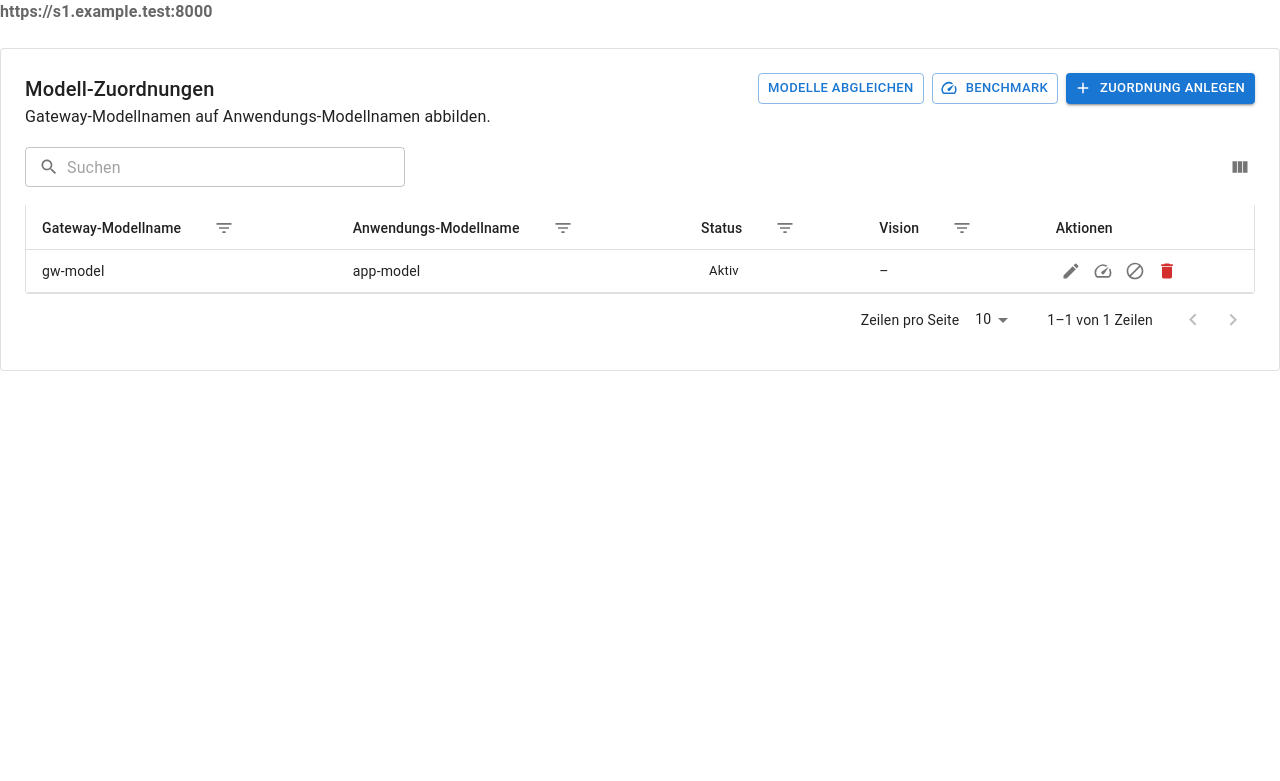
Test case: probes the context size and fills the field (without auto-saving)
This screenshot has width=1280, height=781.
Expected: the text "gw-model" is shown, [26,250,337,292]
Click the button named "Bearbeiten".
click(1071, 271)  # box [1056,256,1086,286]
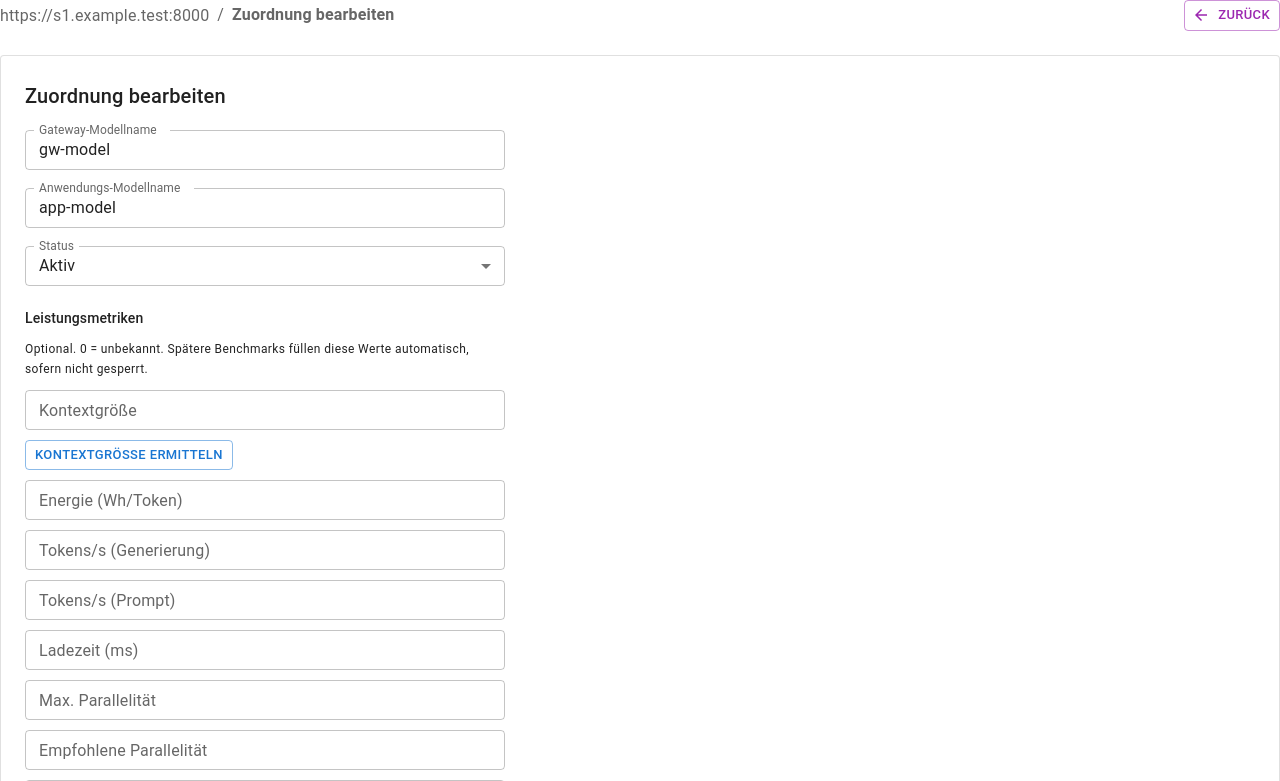
Now the button "Kontextgröße ermitteln" is enabled
Click the button "Kontextgröße ermitteln".
click(129, 455)  # box [25,440,233,470]
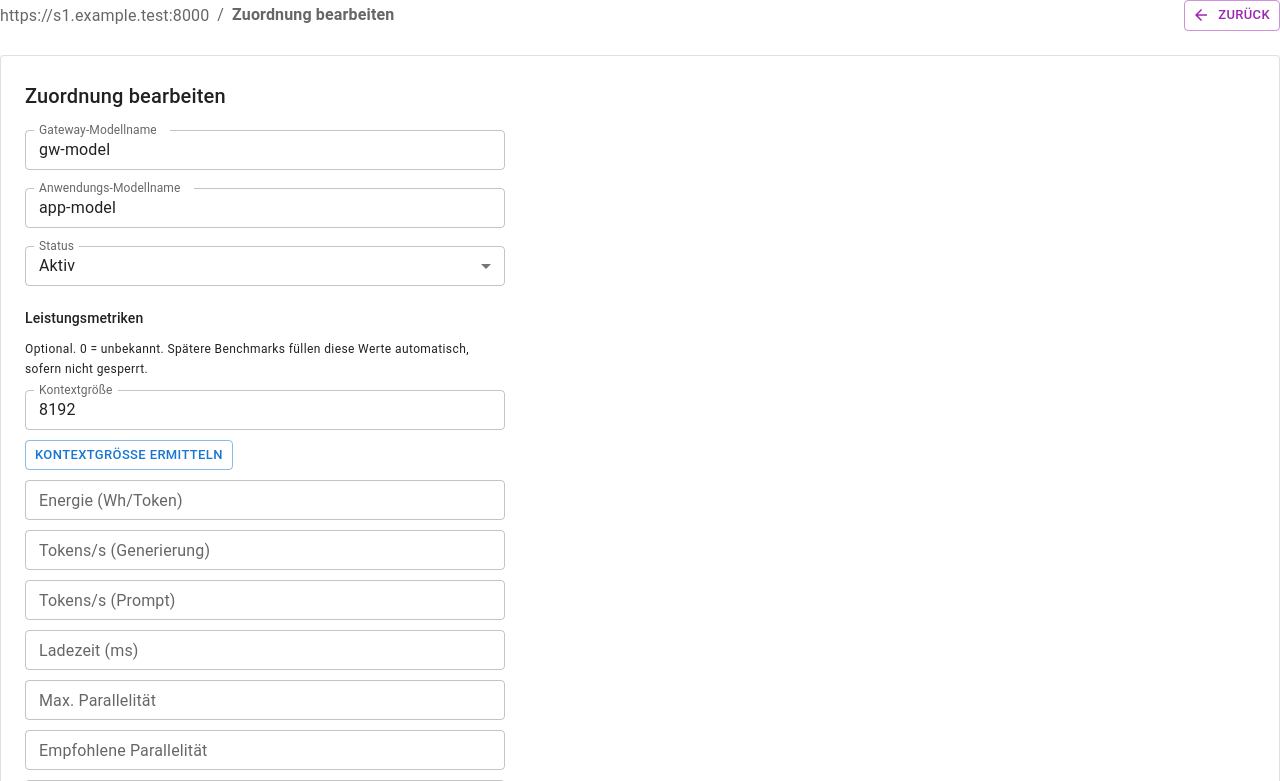
Now the number field labelled "Kontextgröße" holds "8192", box [25,390,505,430]
